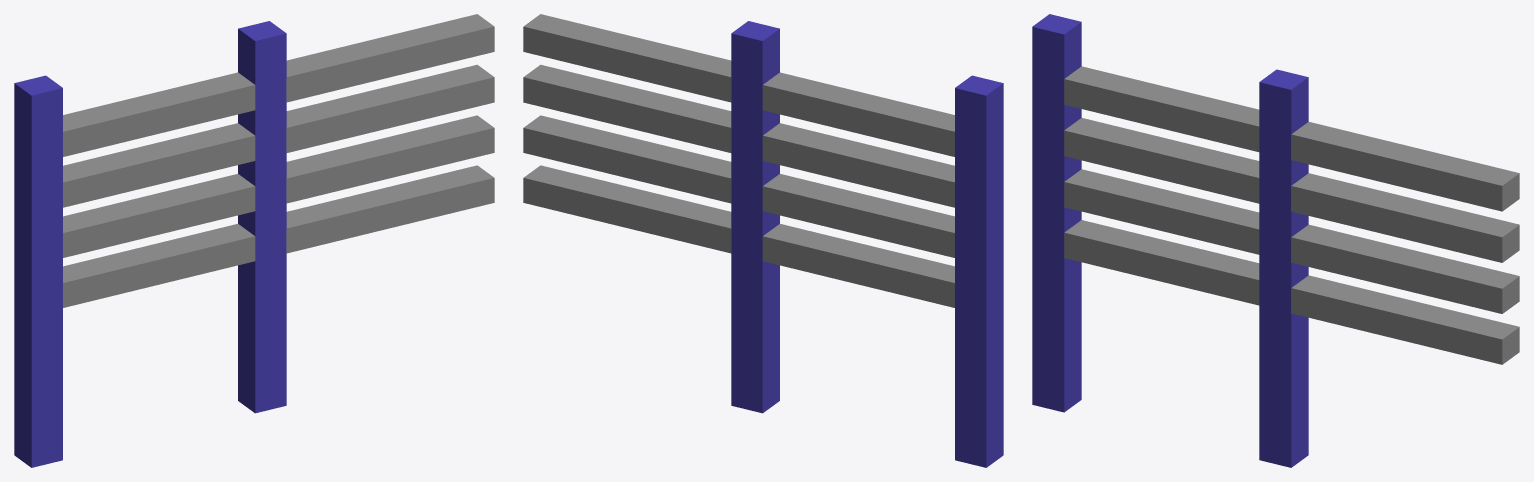
The model's file is fencefence.fbx.
The picture shows the model from 3 angles, left to right: view 1: azimuth 30°, elevation 25°; view 2: azimuth 150°, elevation 25°; view 3: azimuth 330°, elevation 25°; orthographic projection.
Visible parts, largest first — view 1: fence; view 2: fence; view 3: fence.
Part boxes in pixels (box(x1,y1,x2,y2)): fence: box(14, 14, 494, 467); fence: box(523, 14, 1003, 467); fence: box(1032, 14, 1519, 467).
Bounding box in the file's own units: 0.6902 × 0.0443 × 0.5303.
Materials: 1 (1 with a texture image).
